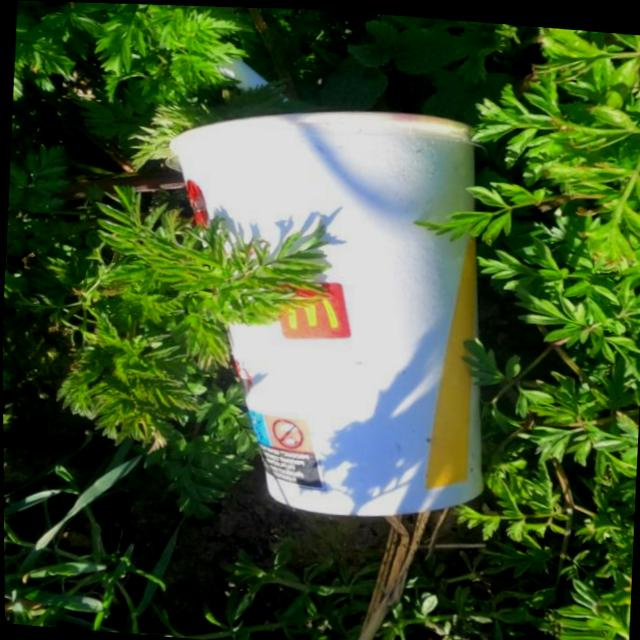Cup: (146, 88, 506, 526)
